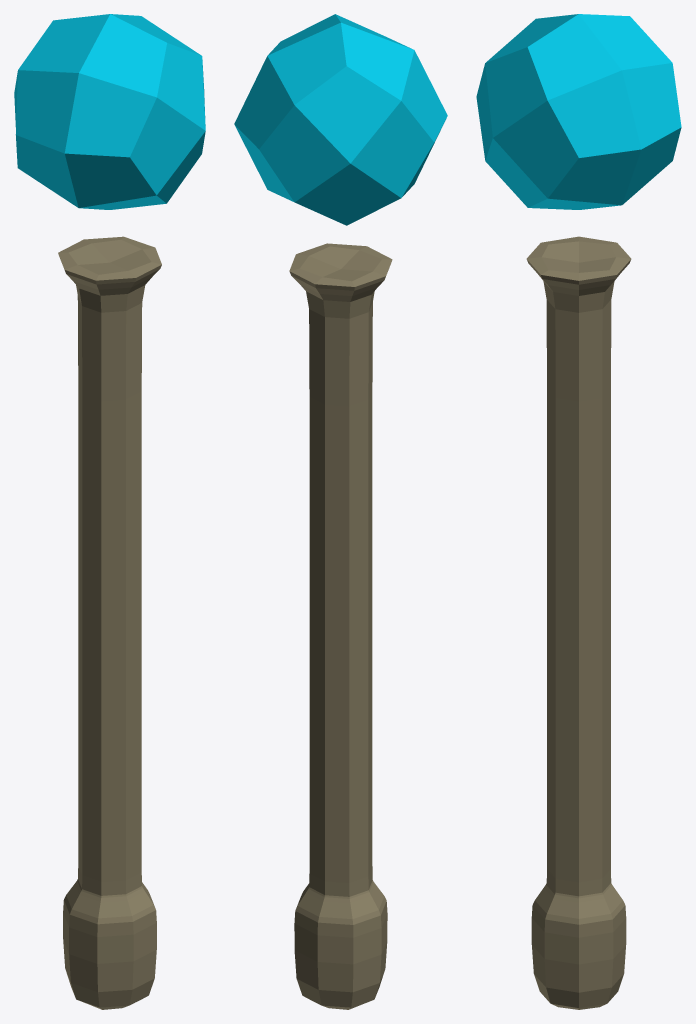
Rendered from IceWand.fbx.
3 renders of one model, left to right at view 1: azimuth 30°, elevation 25°; view 2: azimuth 150°, elevation 25°; view 3: azimuth 270°, elevation 25°, orthographic.
Parts seen in each view (by area): view 1: Varita Hielo, Bola de Hielo; view 2: Varita Hielo, Bola de Hielo; view 3: Varita Hielo, Bola de Hielo.
Boxes of the visible parts, <box> form: Varita Hielo: <box>58,236,161,1009</box>; Bola de Hielo: <box>14,14,205,209</box>; Varita Hielo: <box>289,243,392,1009</box>; Bola de Hielo: <box>234,14,447,225</box>; Varita Hielo: <box>526,236,631,1009</box>; Bola de Hielo: <box>476,14,681,209</box>.
Bounding box in the file's own units: 43.86 × 220 × 41.35.
